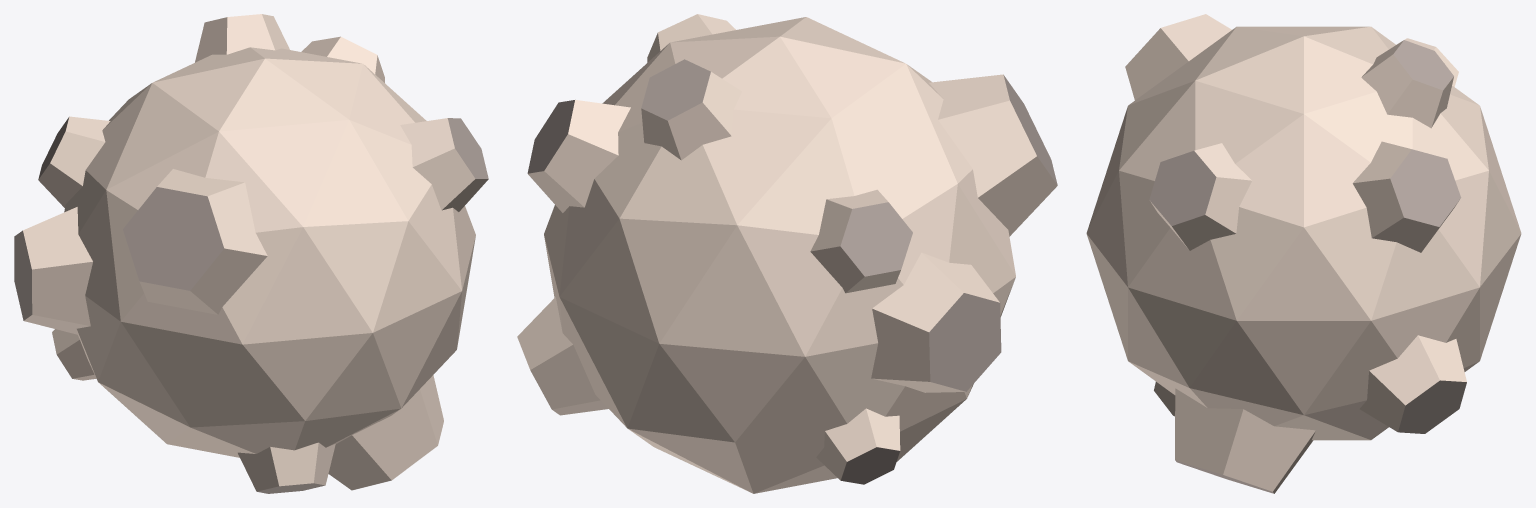
The model's file is moonSmall.FBX.
3 renders of one model, left to right at view 1: azimuth 30°, elevation 25°; view 2: azimuth 150°, elevation 25°; view 3: azimuth 270°, elevation 25°, orthographic. The views are drawn at different scales.
Parts seen in each view (by area): view 1: moonSmall; view 2: moonSmall; view 3: moonSmall.
Part boxes in pixels (x1,y1,x2,y2): moonSmall: (14,14,488,493); moonSmall: (517,14,1057,493); moonSmall: (1086,14,1521,493).
Size of the model in its own units: 2.32 by 2.36 by 2.21.
